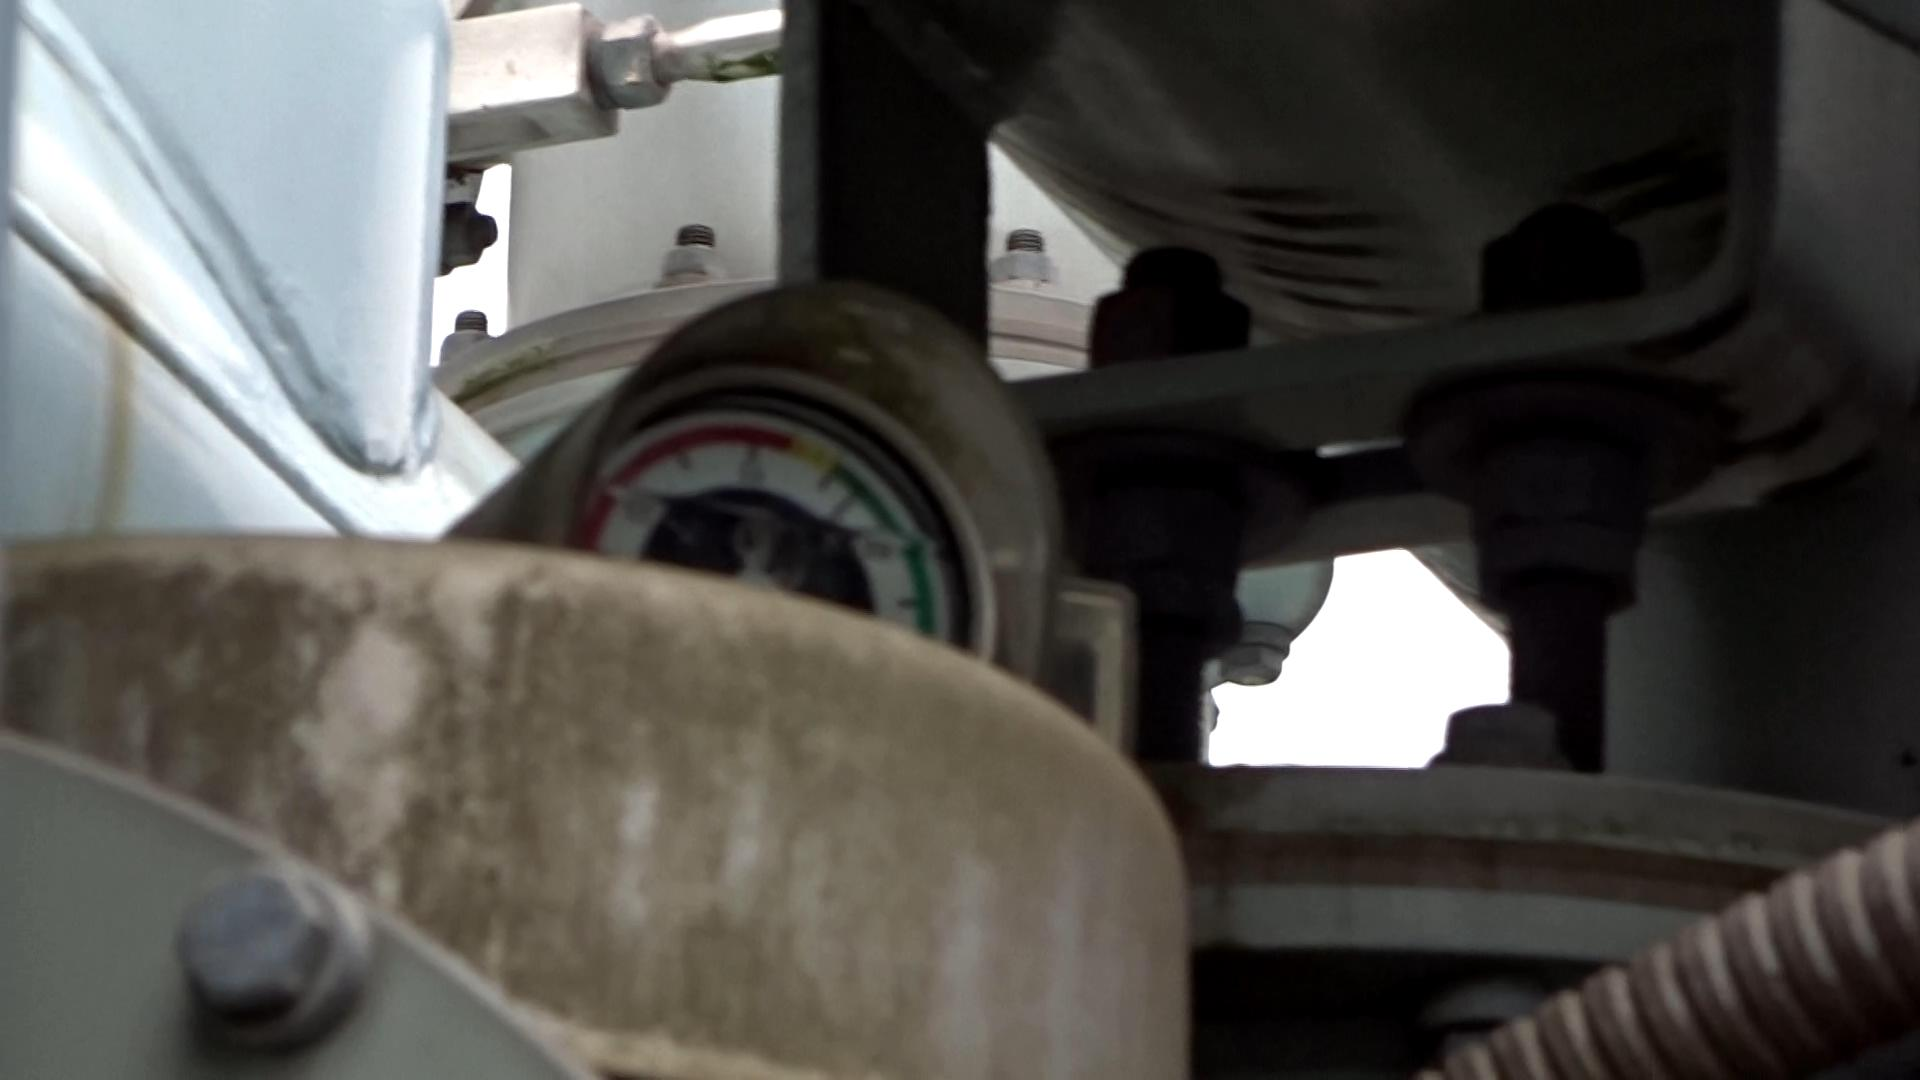instrument: (559, 400, 981, 644)
